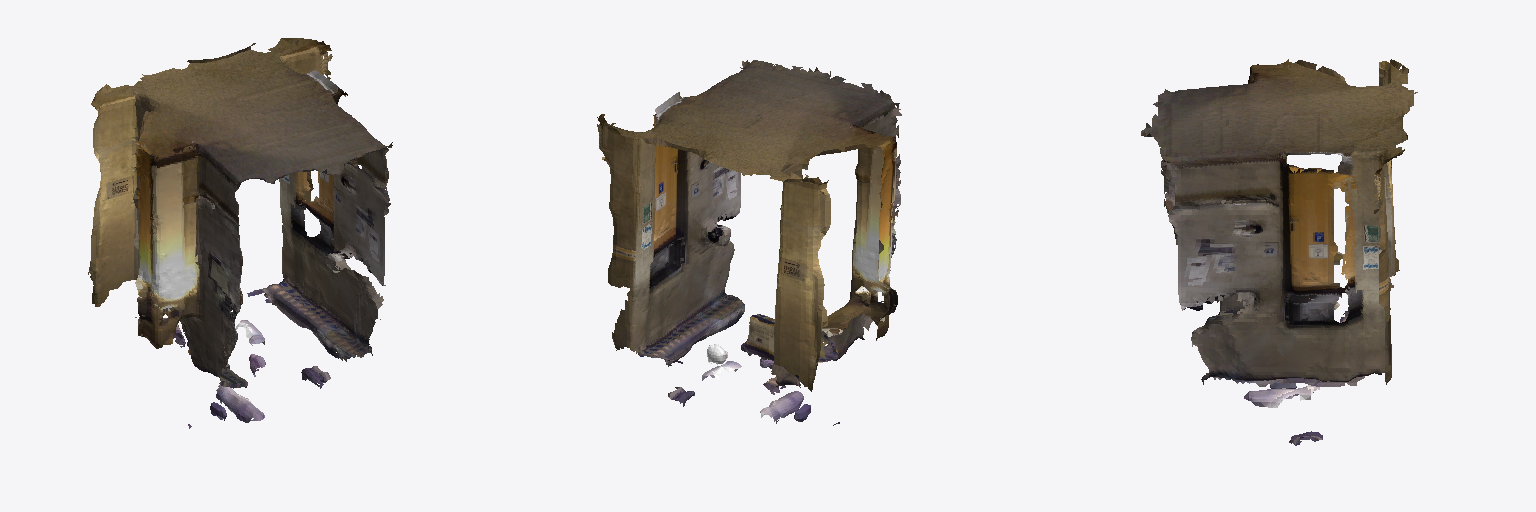
3 views of the same model, side by side, from view 1: azimuth 30°, elevation 25°; view 2: azimuth 150°, elevation 25°; view 3: azimuth 270°, elevation 25° (orthographic).
Size of the model in its own units: 4.16 by 4.98 by 4.05.
Materials: 1 (1 with a texture image).